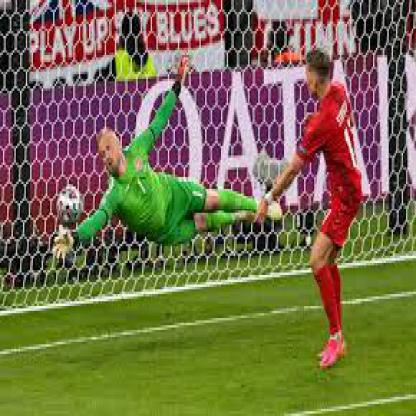goal: (26, 71, 174, 255)
